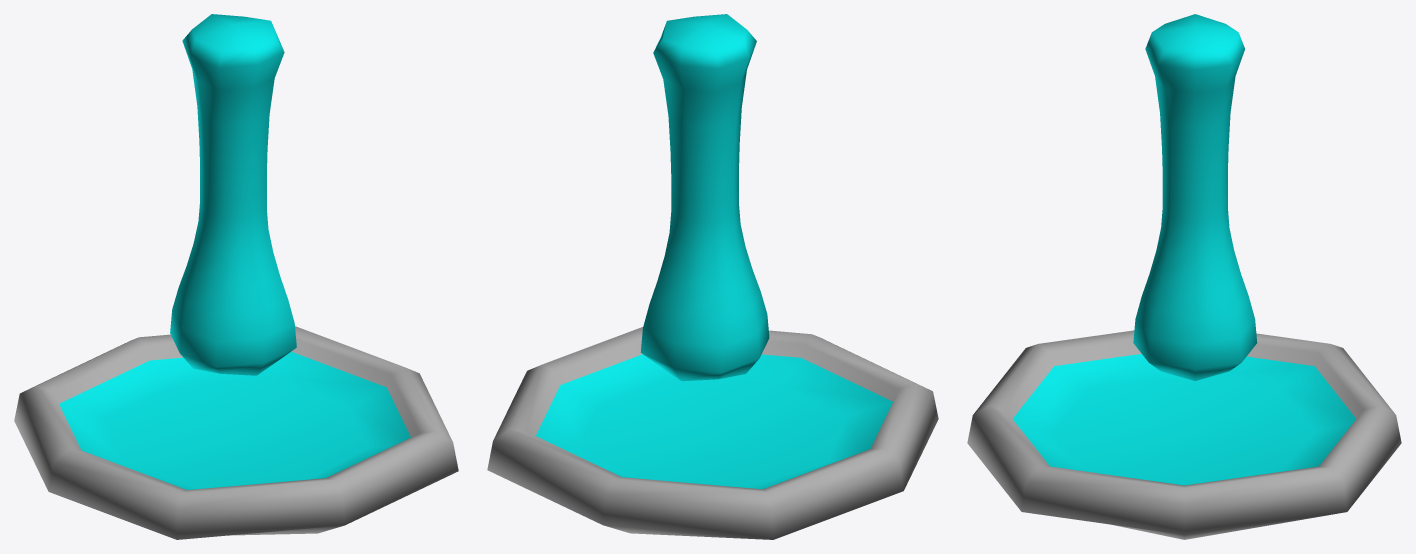
File: Hologram.fbx
3 views of the same model, side by side, from view 1: azimuth 30°, elevation 25°; view 2: azimuth 150°, elevation 25°; view 3: azimuth 270°, elevation 25° (orthographic).
Visible parts, largest first — view 1: Hologram1; view 2: Hologram1; view 3: Hologram1.
Part boxes in pixels (x1,y1,x2,y2): Hologram1: (14, 14, 458, 539); Hologram1: (487, 14, 938, 539); Hologram1: (967, 14, 1401, 539).
Size of the model in its own units: 1 by 1.16 by 1.
